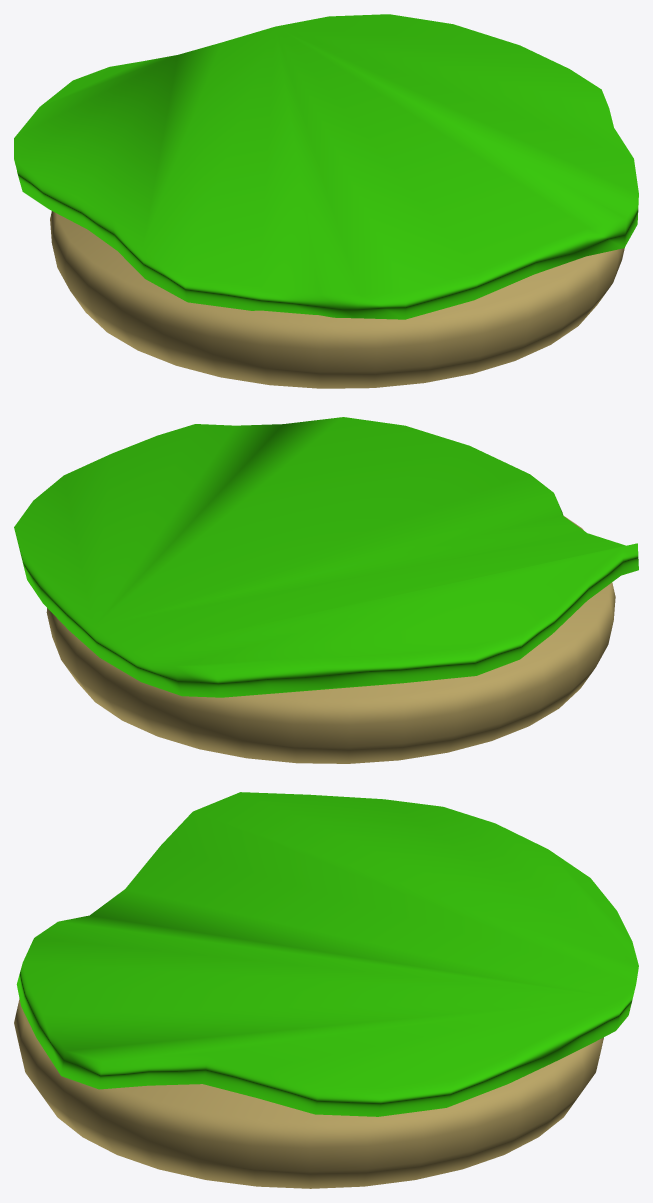
File: Burger1.fbx
3 views of the same model, one above another, from view 1: azimuth 30°, elevation 25°; view 2: azimuth 150°, elevation 25°; view 3: azimuth 270°, elevation 25° (orthographic). The views are drawn at different scales.
Visible parts, largest first — view 1: Cylinder, Sphere; view 2: Cylinder, Sphere; view 3: Cylinder, Sphere.
Boxes of the visible parts, x1,y1,x2,y2 form: Cylinder: (14, 14, 638, 319); Sphere: (50, 211, 624, 388); Cylinder: (14, 417, 638, 697); Sphere: (46, 516, 615, 763); Cylinder: (16, 792, 638, 1116); Sphere: (14, 998, 603, 1188).
Bounding box in the file's own units: 213 × 55.8 × 211.
